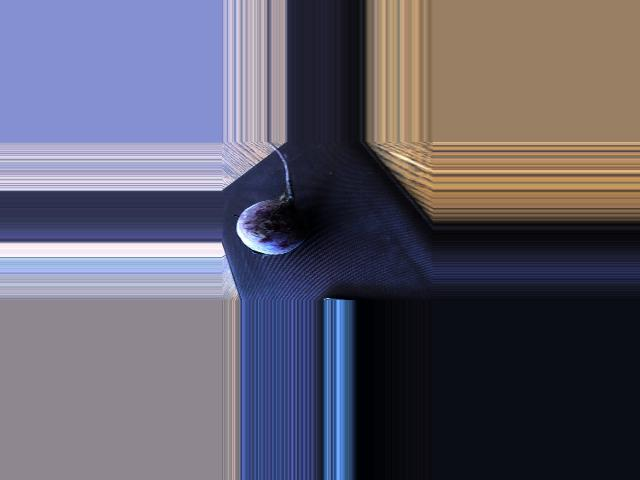beet: (237, 142, 309, 254)
